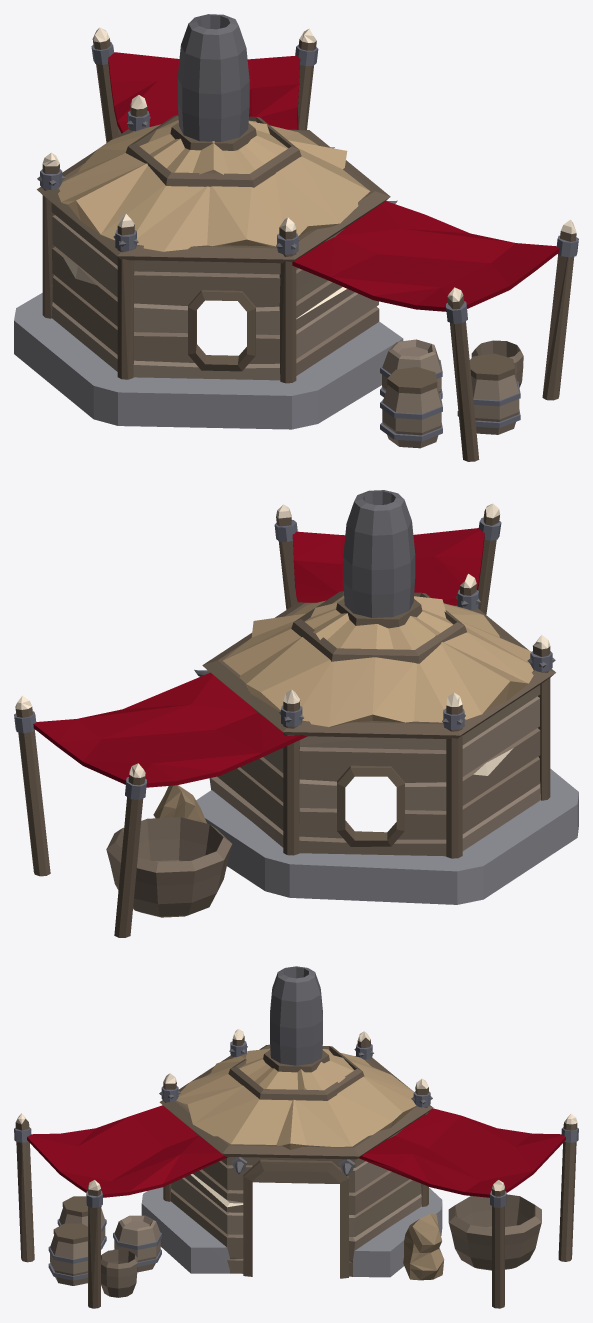
File: brewery.fbx
3 renders of one model, top to bottom at view 1: azimuth 30°, elevation 25°; view 2: azimuth 150°, elevation 25°; view 3: azimuth 270°, elevation 25°, orthographic. The views are drawn at different scales.
Parts seen in each view (by area): view 1: brewery; view 2: brewery; view 3: brewery.
Part boxes in pixels (x1,y1,x2,y2): brewery: (14, 14, 578, 461); brewery: (14, 490, 578, 937); brewery: (14, 966, 578, 1308).
Size of the model in its own units: 1057 by 847 by 1702.
